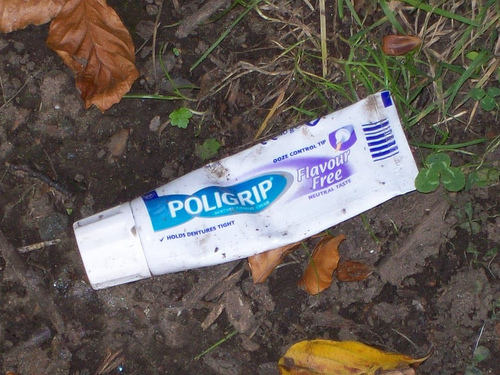litter: (72, 87, 422, 290)
